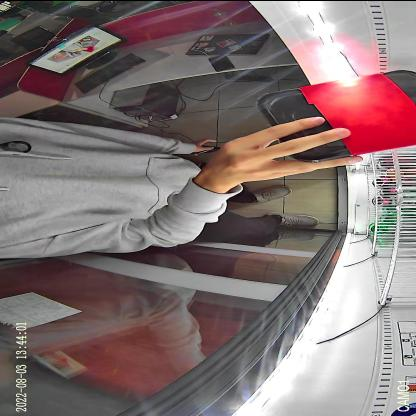red: (255, 69, 416, 162)
